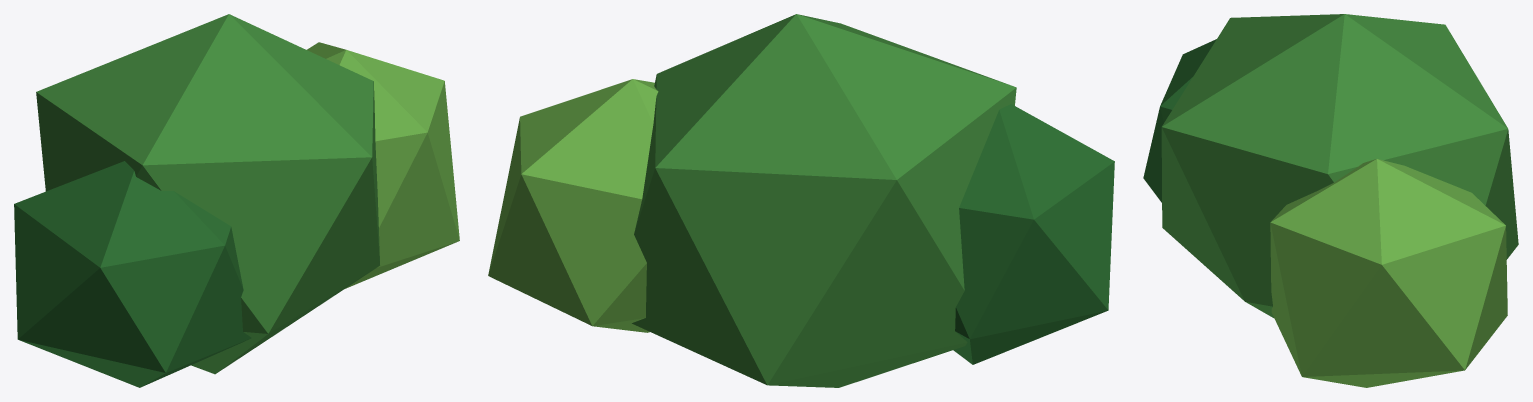
File: Bush.fbx
The picture shows the model from 3 angles, left to right: view 1: azimuth 30°, elevation 25°; view 2: azimuth 150°, elevation 25°; view 3: azimuth 270°, elevation 25°; orthographic projection. The views are drawn at different scales.
Visible parts, largest first — view 1: Bush; view 2: Bush; view 3: Bush.
Part boxes in pixels (left/top/right/bottom): Bush: left=14, top=14, right=459, bottom=387; Bush: left=488, top=14, right=1114, bottom=387; Bush: left=1143, top=14, right=1518, bottom=387.
Size of the model in its own units: 1.18 by 0.8024 by 0.7945.
